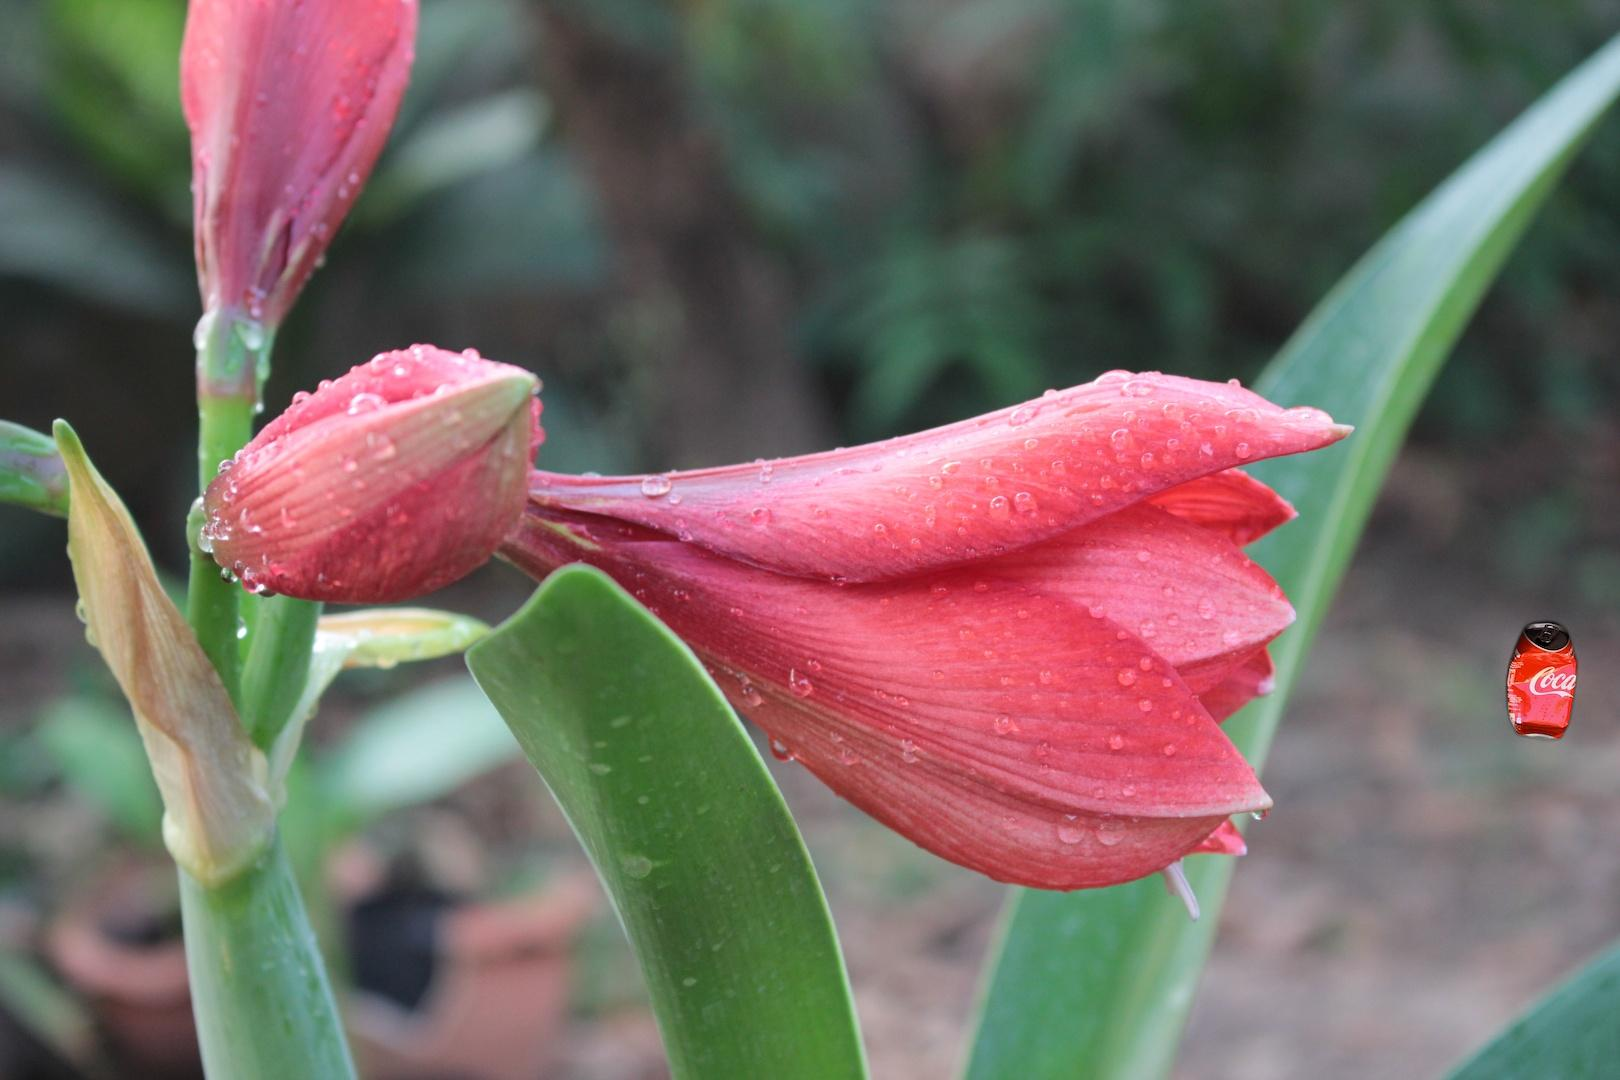metal-cans: (1501, 615, 1581, 746)
